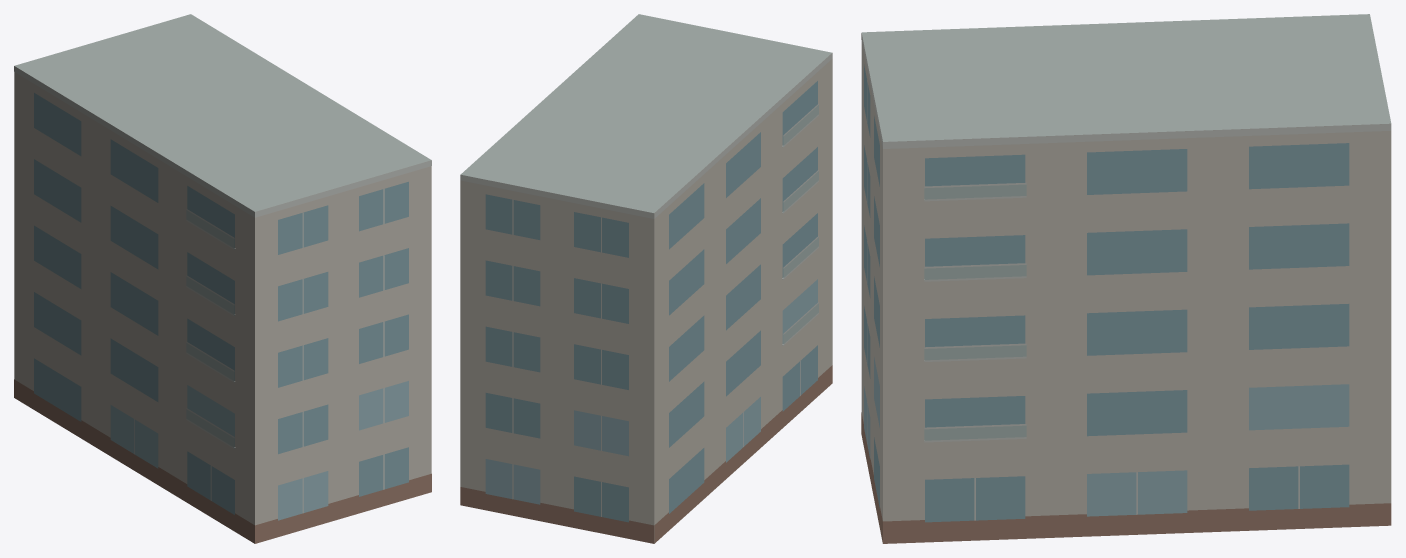
File: survey-upis-32723995.glb
3 views of the same model, side by side, from view 1: azimuth 30°, elevation 25°; view 2: azimuth 150°, elevation 25°; view 3: azimuth 270°, elevation 25° (orthographic). The views are drawn at different scales.
Visible parts, largest first — view 1: survey-upis-32723995.tmp; view 2: survey-upis-32723995.tmp; view 3: survey-upis-32723995.tmp.
Boxes of the visible parts, box(x1,y1,x2,y2) form: survey-upis-32723995.tmp: box(14, 14, 431, 543); survey-upis-32723995.tmp: box(460, 14, 832, 543); survey-upis-32723995.tmp: box(861, 14, 1391, 543).
Bounding box in the file's own units: 9.43 × 13.8 × 16.5.
